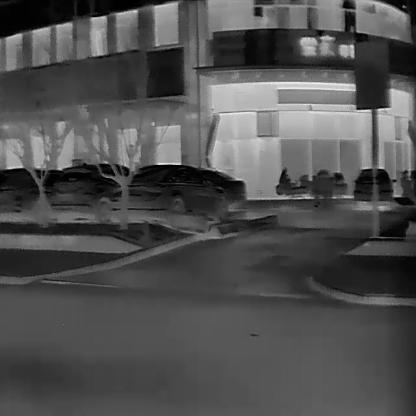car: (121, 162, 220, 222), (50, 161, 135, 220), (0, 165, 56, 210), (199, 166, 246, 202), (354, 166, 390, 210)
